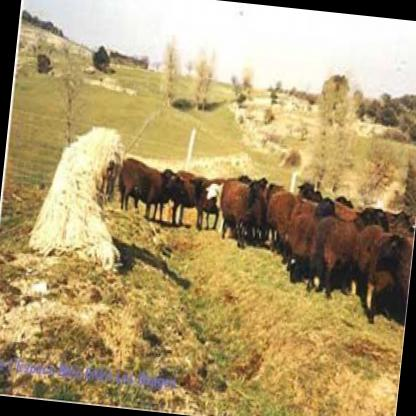komondor: (22, 114, 132, 276)
